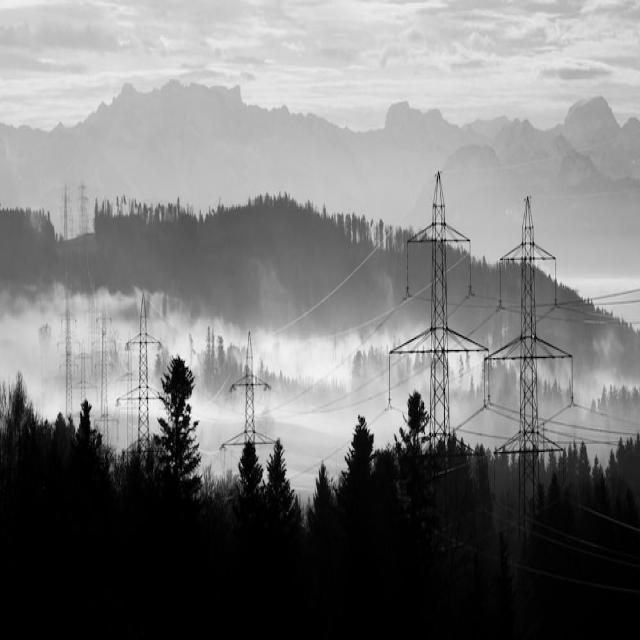transmission tower: (395, 163, 476, 455), (483, 194, 571, 462), (108, 275, 176, 445), (220, 308, 274, 470)
